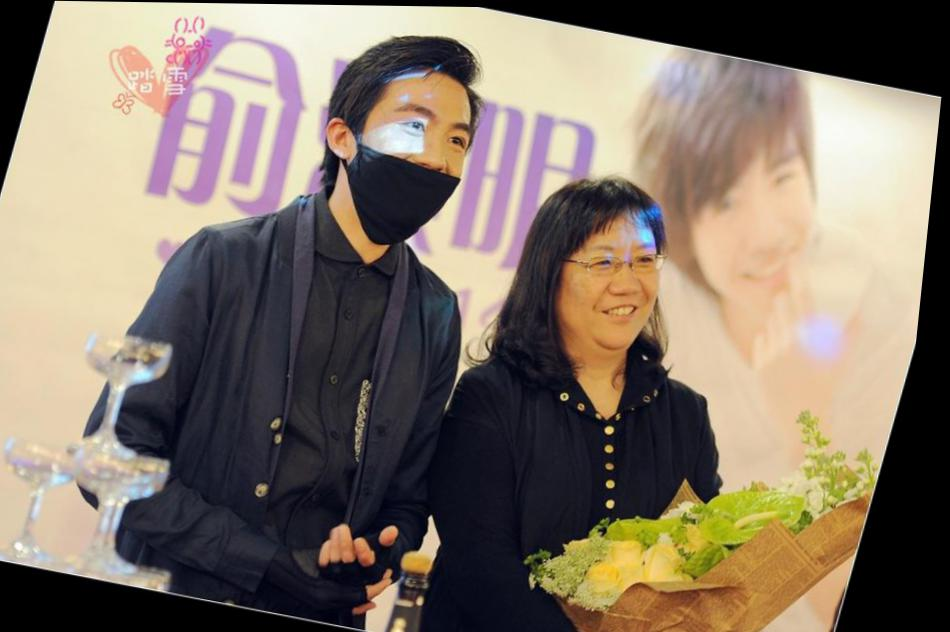NONE: (696, 134, 836, 297), (559, 220, 681, 351)
WRONG: (319, 80, 492, 242)
